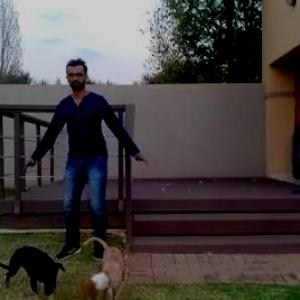land: (29, 60, 148, 266)
